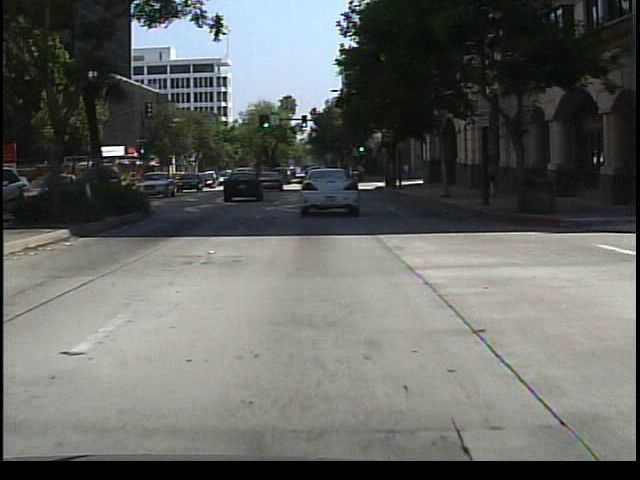person: (482, 155, 502, 203)
